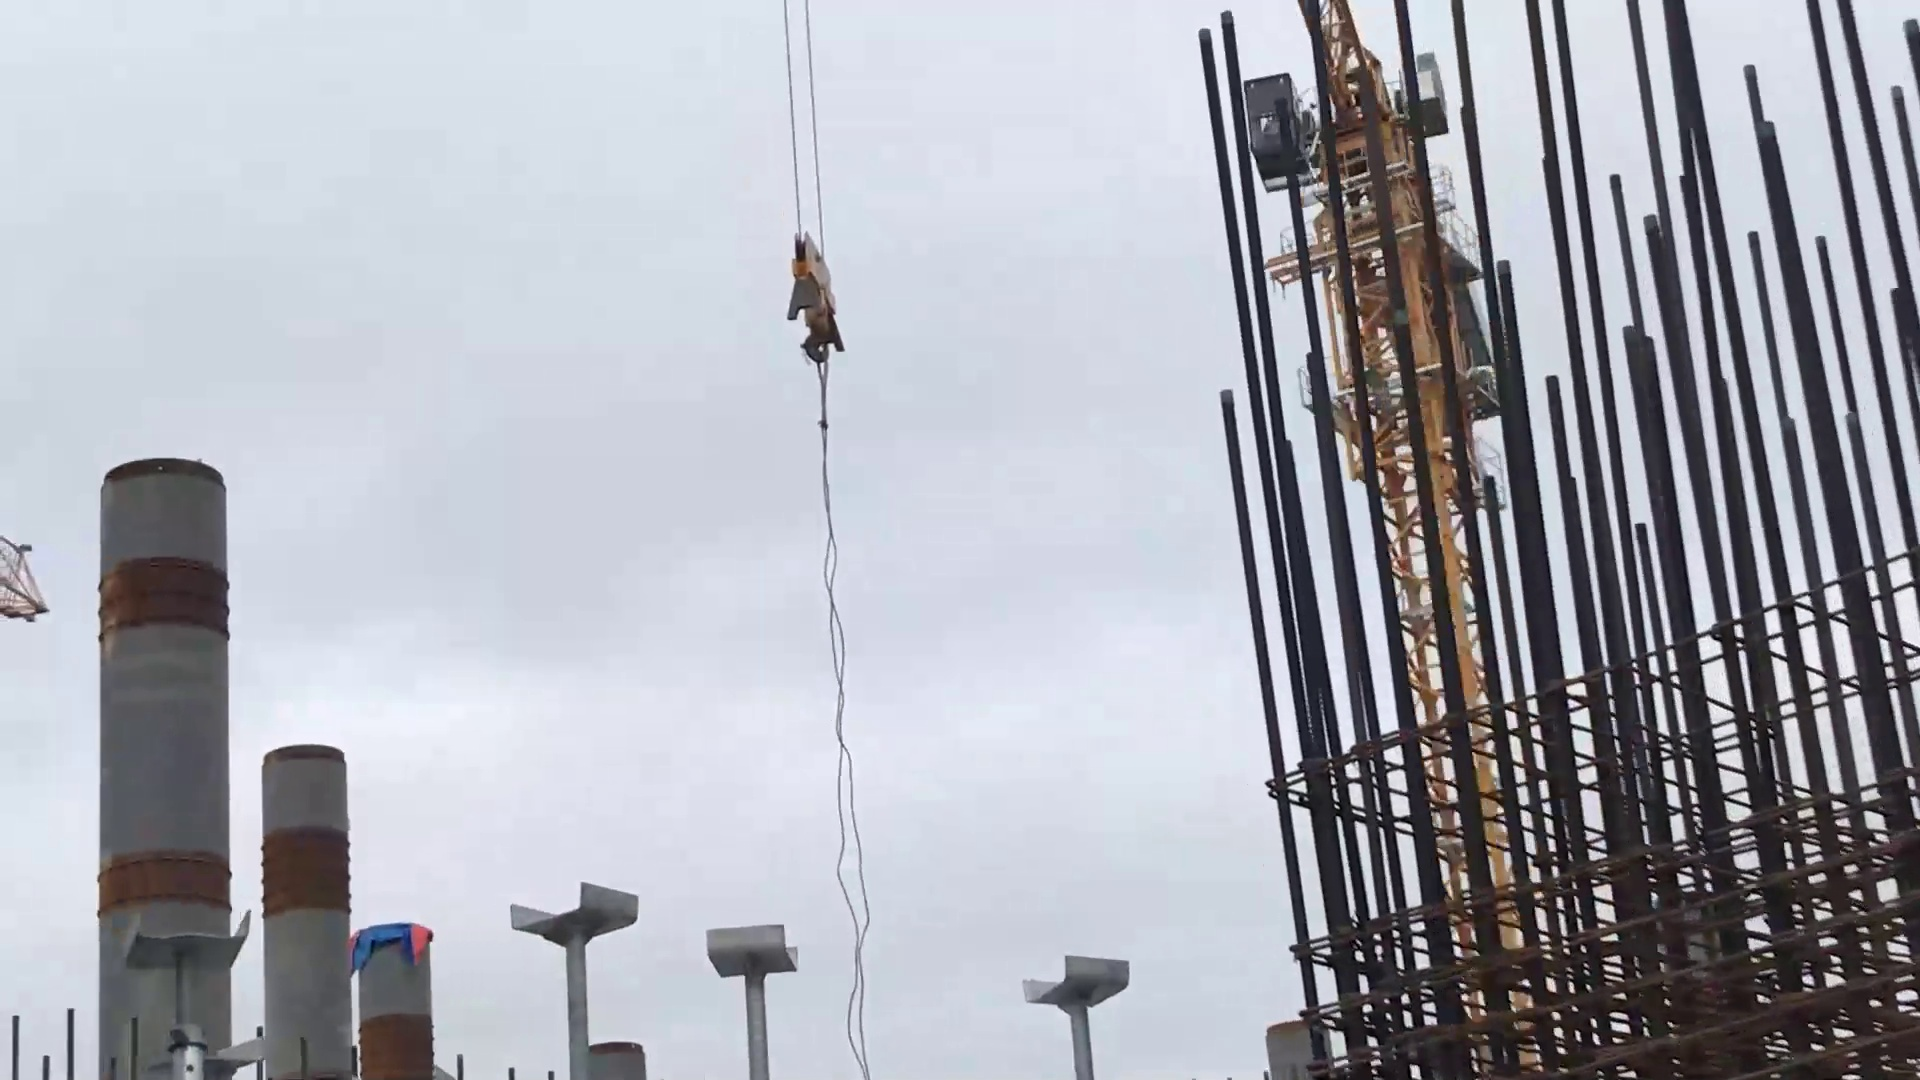hook: (764, 207, 882, 373)
